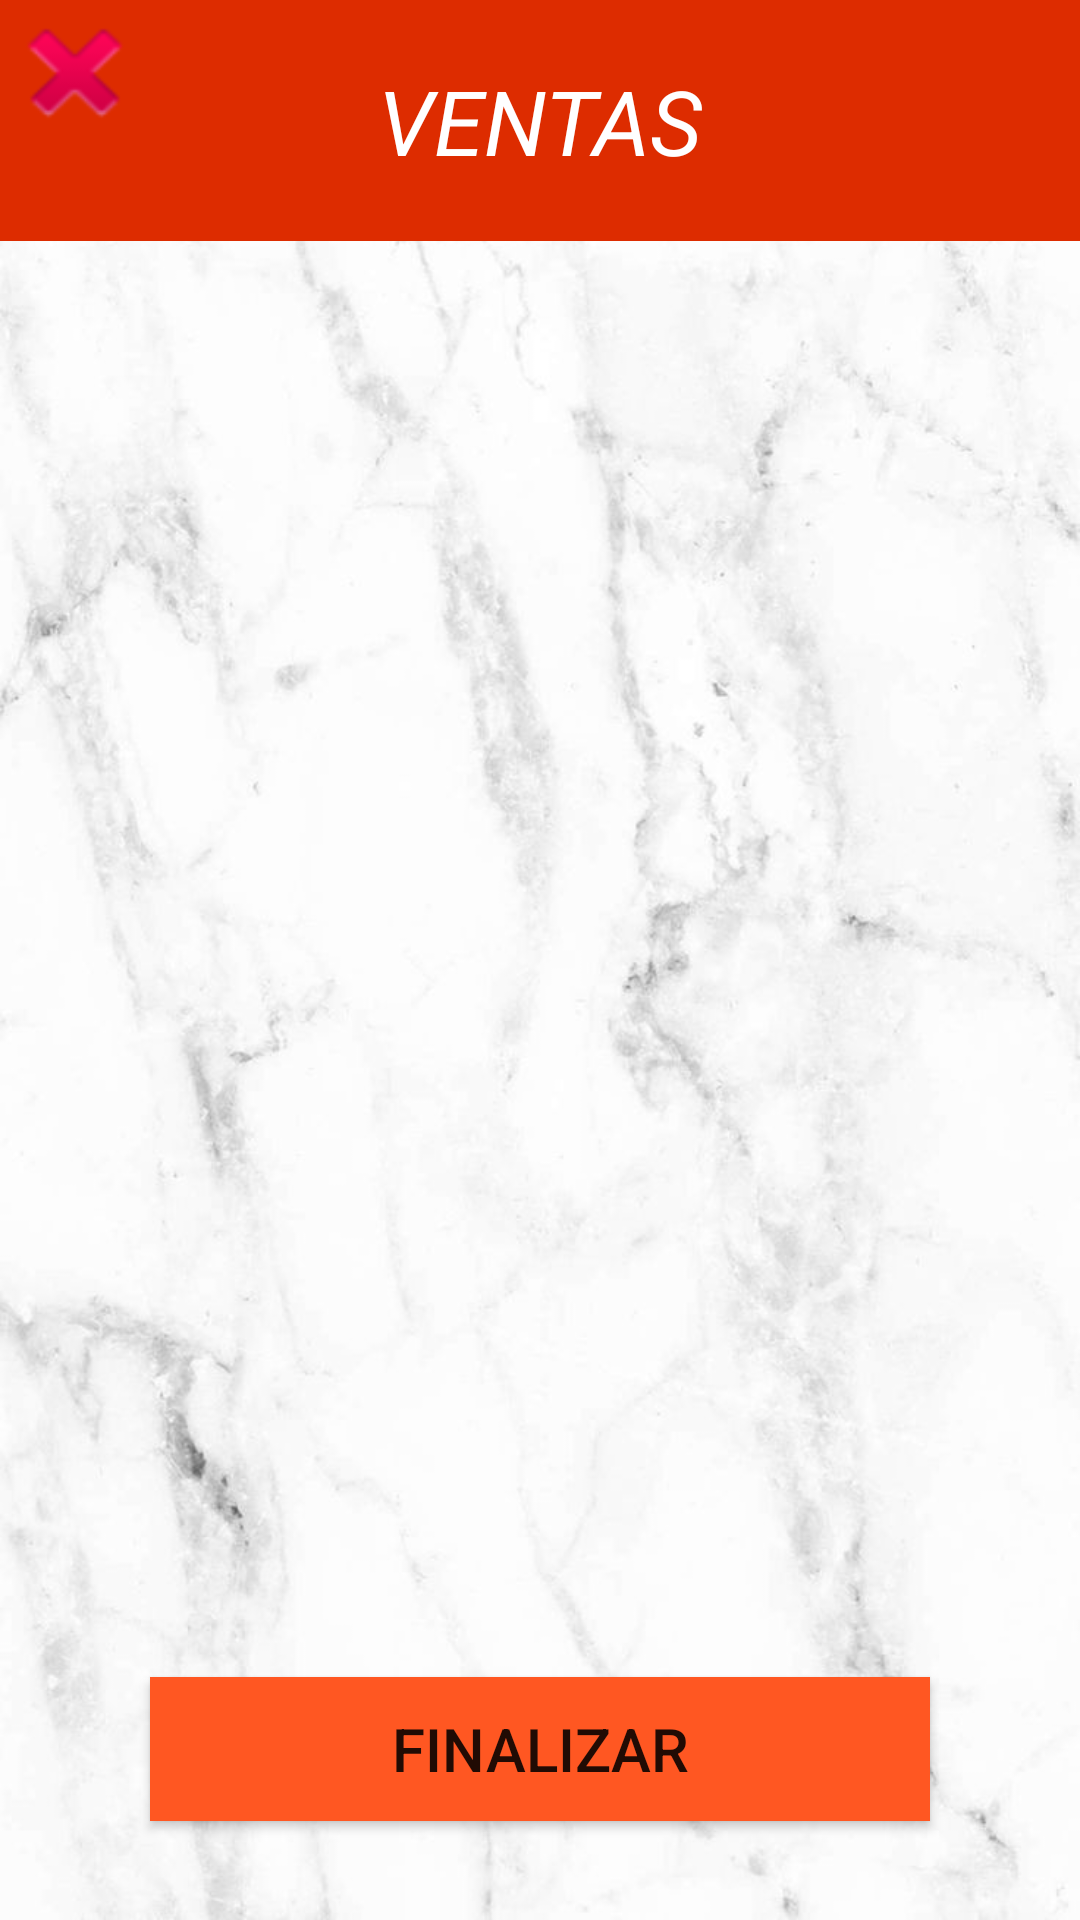

Point at icon controls on the screen. Image size 1080×1920, points as (x=x, y=y).
delete: (x=75, y=73)
